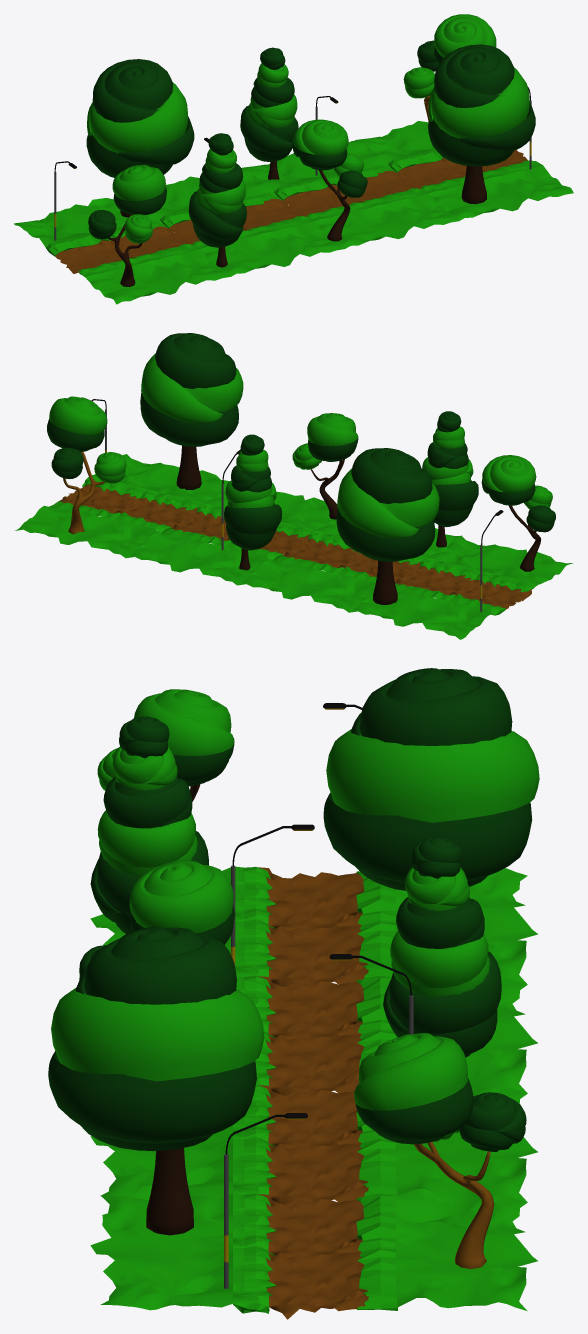
File: Campo2.fbx
3 views of the same model, one above another, from view 1: azimuth 30°, elevation 25°; view 2: azimuth 150°, elevation 25°; view 3: azimuth 270°, elevation 25° (orthographic). The views are drawn at different scales.
Parts seen in each view (by area): view 1: Plane032, arbol011, arbol006, arbol012, arbol009, arbol008, arbol010, arbol007; view 2: Plane032, arbol011, arbol006, arbol007, arbol009, arbol012, arbol008, arbol010; view 3: Plane032, arbol011, arbol006, arbol009, arbol007, arbol012, arbol010, arbol008, farola004.
Boxes of the visible parts, x1,y1,x2,y2 form: Plane032: (14,121,573,304); arbol011: (428,44,535,204); arbol006: (86,59,194,217); arbol012: (188,133,246,267); arbol009: (240,47,298,179); arbol008: (88,165,166,286); arbol010: (292,119,367,241); arbol007: (403,14,496,121); Plane032: (15,454,572,639); arbol011: (140,333,243,489); arbol006: (336,448,439,604); arbol007: (47,396,126,534); arbol009: (224,434,281,570); arbol012: (422,411,478,547); arbol008: (481,455,555,571); arbol010: (292,413,358,519); Plane032: (90,866,537,1319); arbol011: (48,926,264,1235); arbol006: (323,668,539,890); arbol009: (383,837,501,1057); arbol007: (354,1033,526,1269); arbol012: (90,716,208,933); arbol010: (79,860,234,979); arbol008: (97,689,234,801); farola004: (224,1113,307,1288).
Bounding box in the file's own units: 1292 × 412 × 603.
